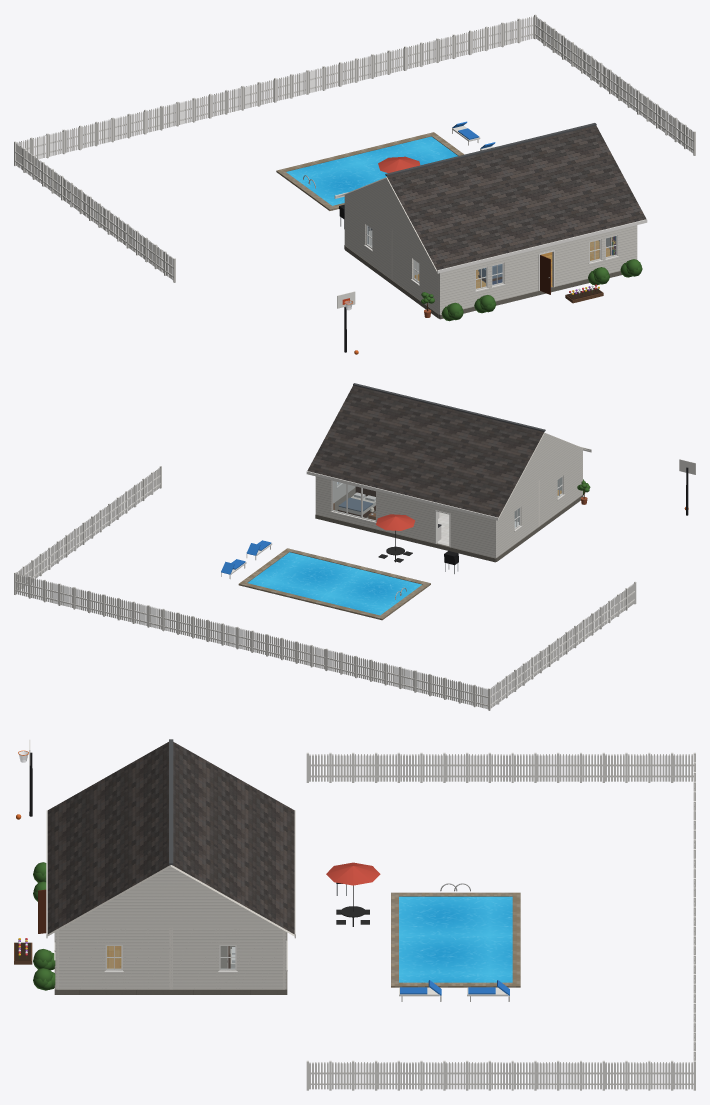
The model's file is house_N2.glb.
The picture shows the model from 3 angles, top to bottom: view 1: azimuth 30°, elevation 25°; view 2: azimuth 150°, elevation 25°; view 3: azimuth 270°, elevation 25°; orthographic projection. The views are drawn at different scales.
Parts seen in each view (by area): view 1: house_N2; view 2: house_N2; view 3: house_N2.
Boxes of the visible parts, x1,y1,x2,y2 form: house_N2: (14, 14, 695, 354); house_N2: (14, 383, 695, 710); house_N2: (14, 739, 695, 1090).
Bounding box in the file's own units: 32.1 × 6.61 × 29.95.
55 materials, 10 textured.
